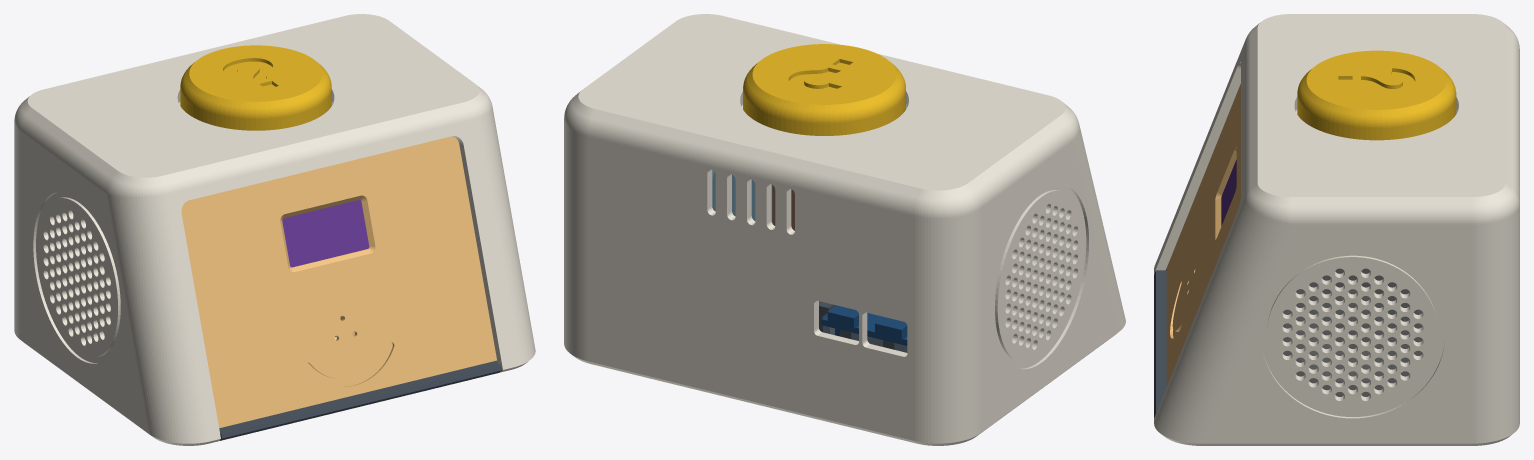
The model's file is mod_ask_assembled.glb.
3 views of the same model, side by side, from view 1: azimuth 30°, elevation 25°; view 2: azimuth 150°, elevation 25°; view 3: azimuth 270°, elevation 25° (orthographic). The views are drawn at different scales.
Visible parts, largest first — view 1: 02_shell, 03_front_panel, 04_button_cap, ref_oled, 01_base; view 2: 02_shell, 04_button_cap, ref_esp, 01_base, 07_speaker_box; view 3: 02_shell, 04_button_cap, 03_front_panel, ref_speaker, 01_base, ref_oled.
Boxes of the visible parts, x1,y1,x2,y2 form: 02_shell: (14,14,535,445); 03_front_panel: (181,136,496,427); 04_button_cap: (180,45,331,130); ref_oled: (282,200,369,267); 01_base: (219,360,501,440); 02_shell: (564,14,1125,445); 04_button_cap: (743,44,905,135); ref_esp: (821,305,907,345); 01_base: (819,301,907,352); 07_speaker_box: (712,170,772,222); 02_shell: (1154,14,1519,445); 04_button_cap: (1297,50,1456,140); 03_front_panel: (1166,83,1240,386); ref_speaker: (1283,268,1422,396); 01_base: (1154,268,1166,417); ref_oled: (1221,159,1236,226).
Bounding box in the file's own units: 116 × 75 × 91.99.
